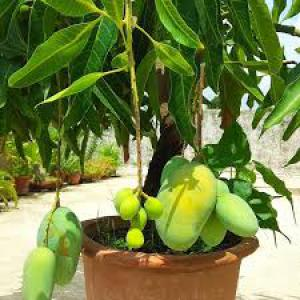Tree: (6, 3, 298, 293)
